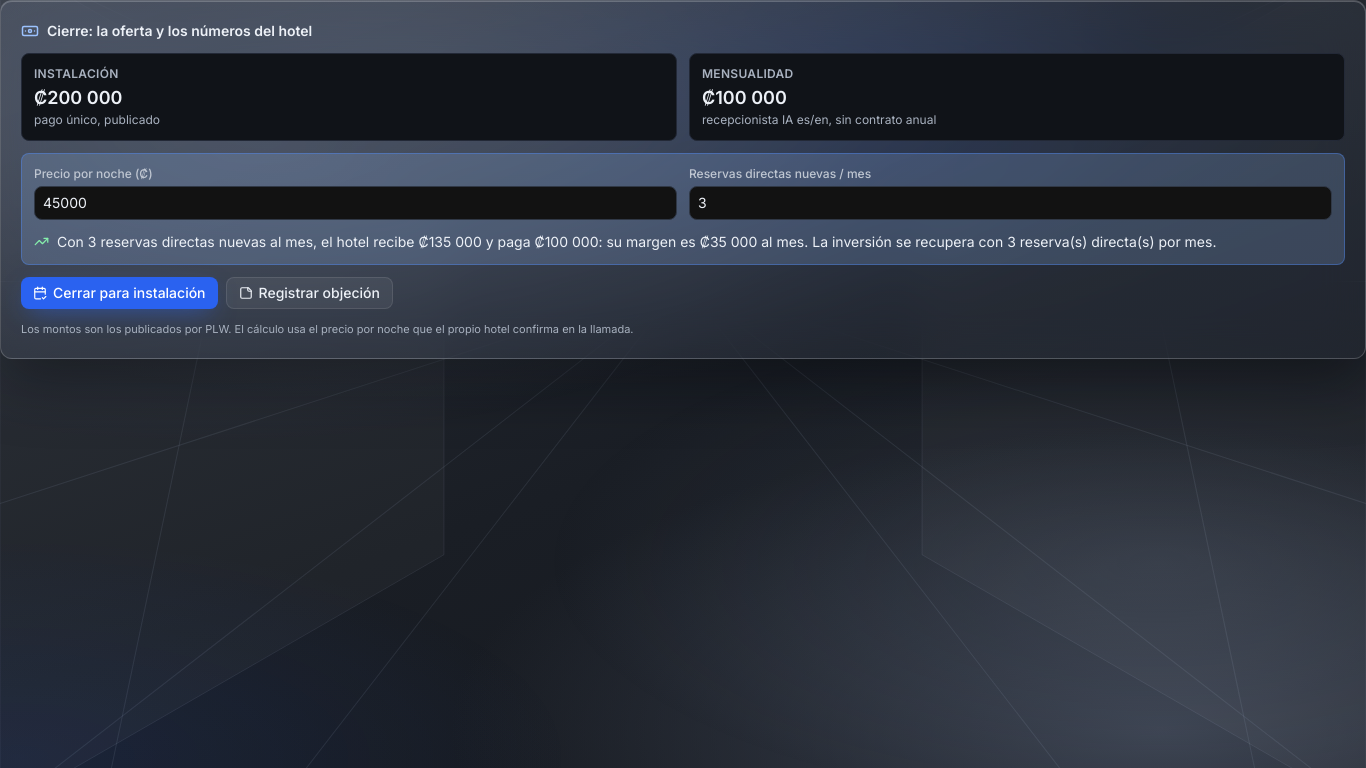
HotelClosingCard › the margin math follows the rate and incremental bookings the hotel confirms
Expected: the text "se recupera con 3 reserva" is shown, x1=34 y1=232 x2=1332 y2=252
Replace the text in the number field labelled "Precio por noche (₡)" with "60000" at (356, 203), box x1=34 y1=186 x2=677 y2=220
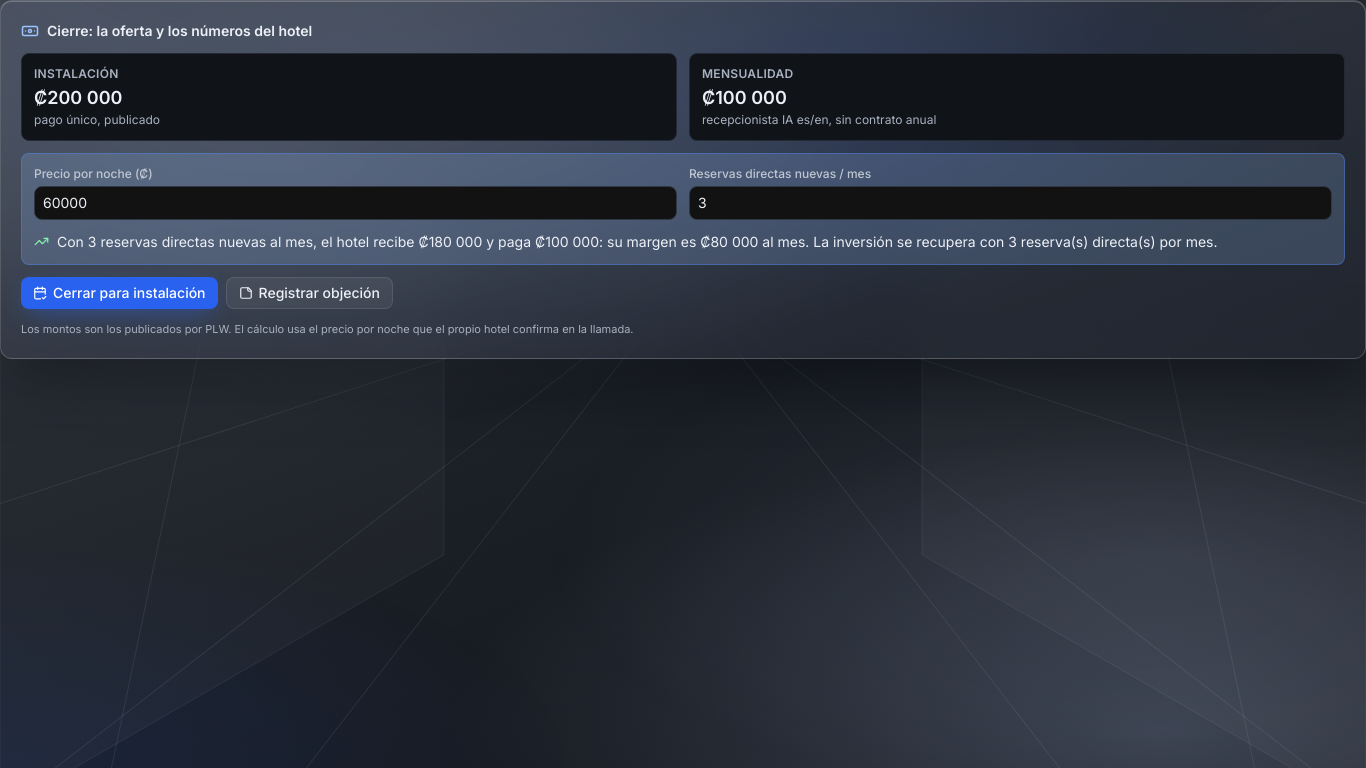
Replace the text in the number field labelled "Reservas directas nuevas / mes" with "5" at (1010, 203), box x1=689 y1=186 x2=1332 y2=220
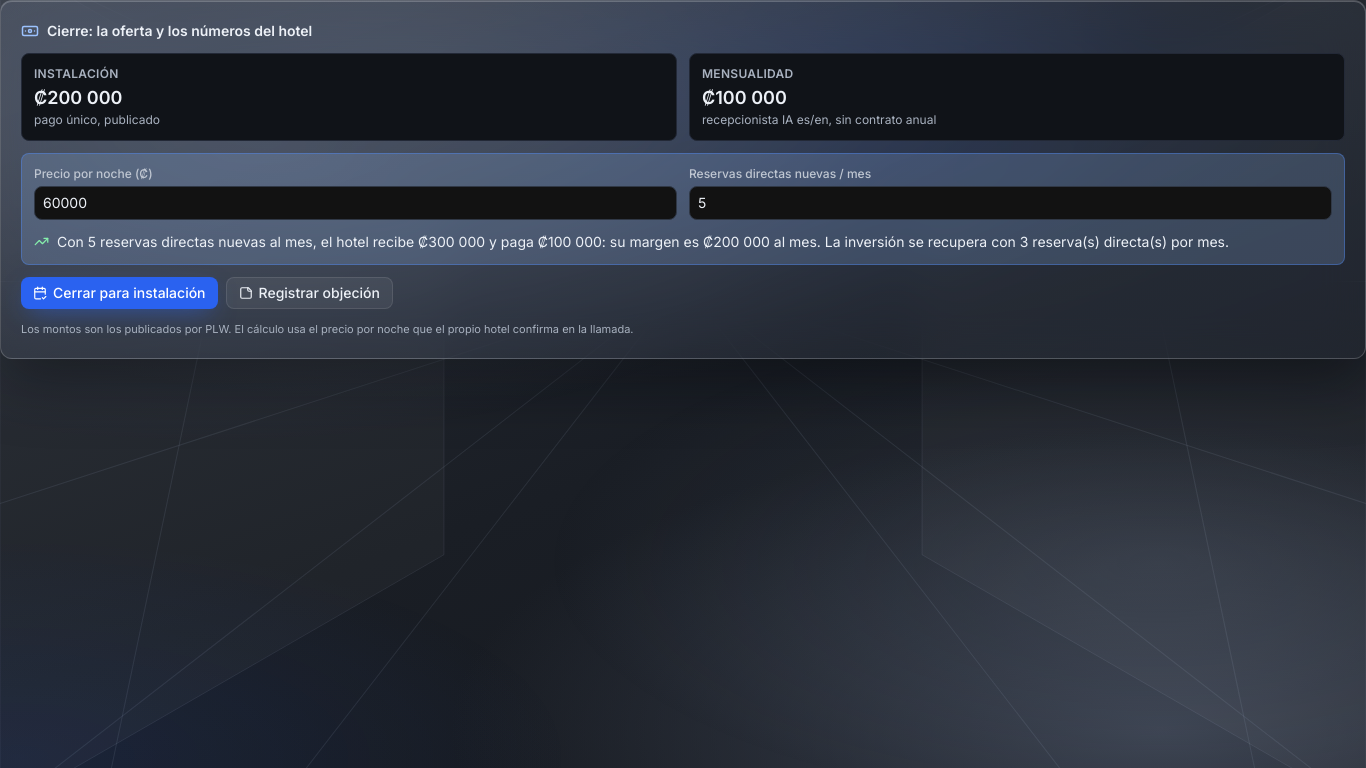
Expected: the text "5 reservas directas nuevas" is shown, x1=34 y1=232 x2=1332 y2=252
